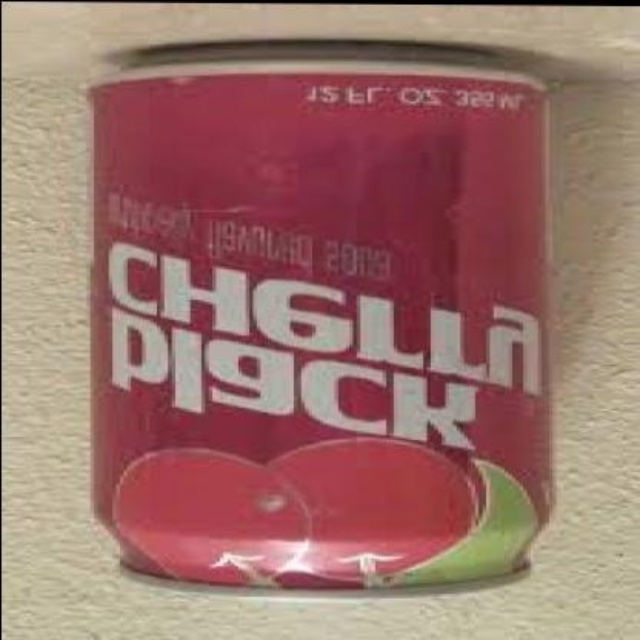trash: (92, 71, 549, 586)
